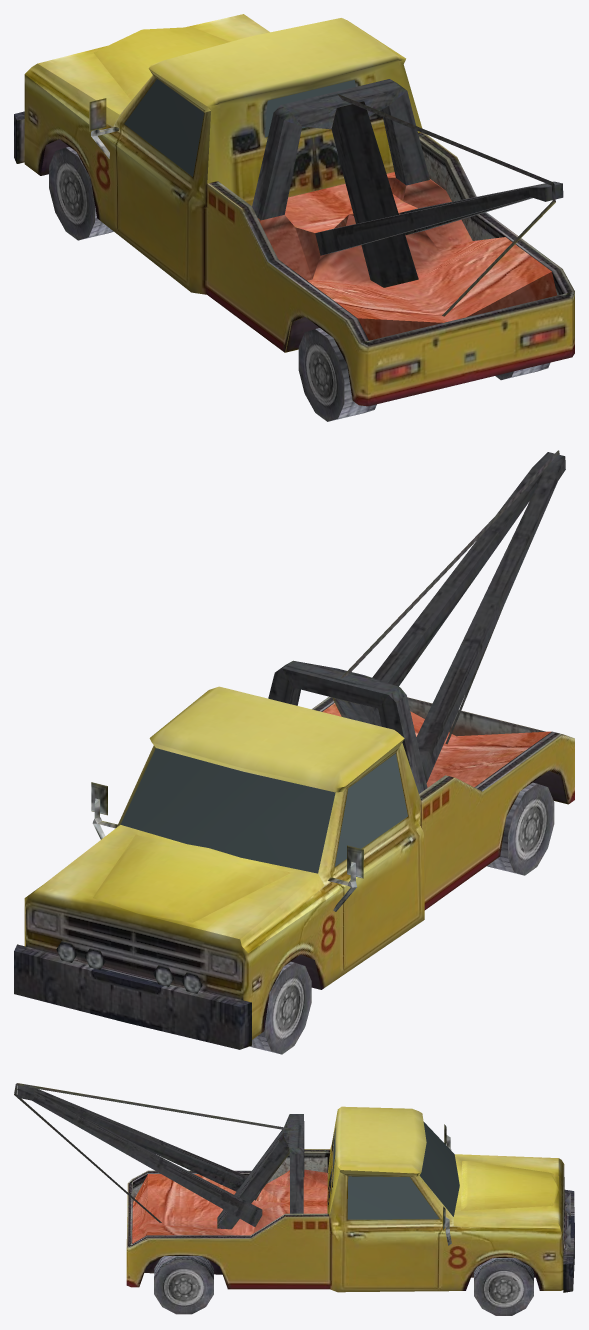
Rendered from p54_08_tow_truck_yellow.glb.
The picture shows the model from 3 angles, top to bottom: view 1: azimuth 30°, elevation 25°; view 2: azimuth 150°, elevation 25°; view 3: azimuth 270°, elevation 25°; orthographic projection. The views are drawn at different scales.
Visible parts, largest first — view 1: Body, Glass; view 2: Body, Glass; view 3: Body, Glass.
Boxes of the visible parts, left/top/right/bottom form: Body: left=14, top=14, right=574, bottom=421; Glass: left=124, top=79, right=355, bottom=176; Body: left=14, top=450, right=574, bottom=1054; Glass: left=120, top=748, right=407, bottom=873; Body: left=14, top=1083, right=574, bottom=1315; Glass: left=333, top=1122, right=459, bottom=1219.
Size of the model in its own units: 2.35 by 2.48 by 6.4.
2 materials, 2 textured.
